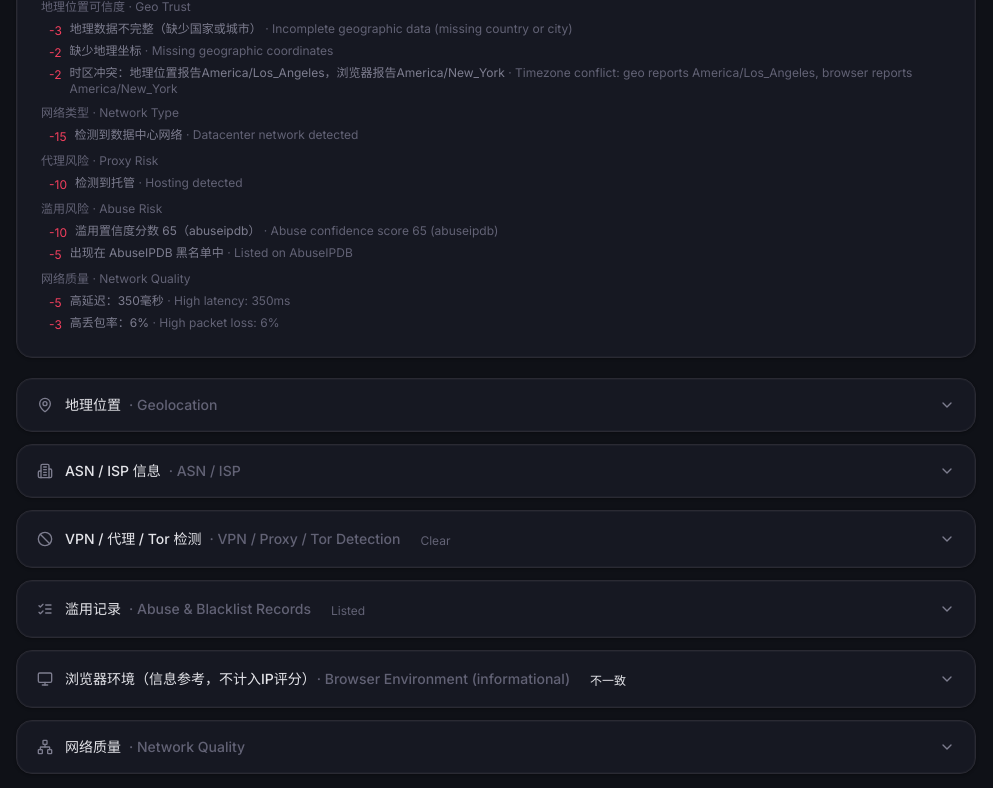
Scenario: IpCheckPage › shows detailed content inside an expanded section
(page scrolled)
// Expand the Geolocation section by clicking the button
Step 1. Click the button "地理位置· Geolocation" → (93, 404), box [17,379,975,431]
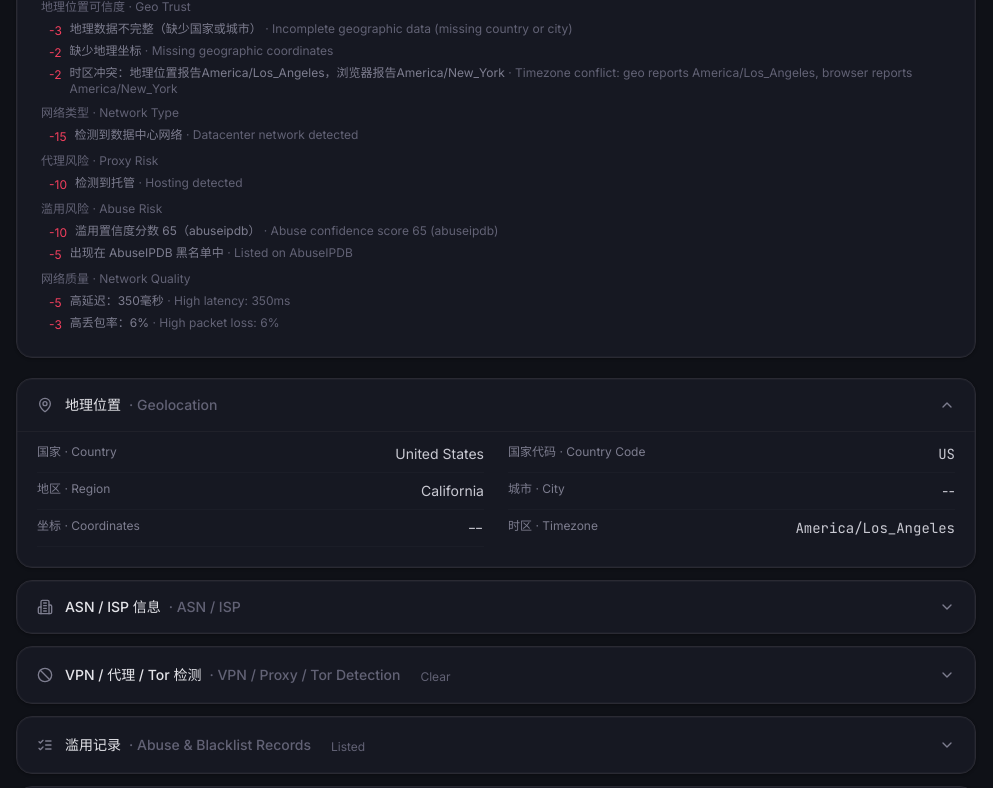
Expected: the text "US" is shown, [938,444,955,464]
